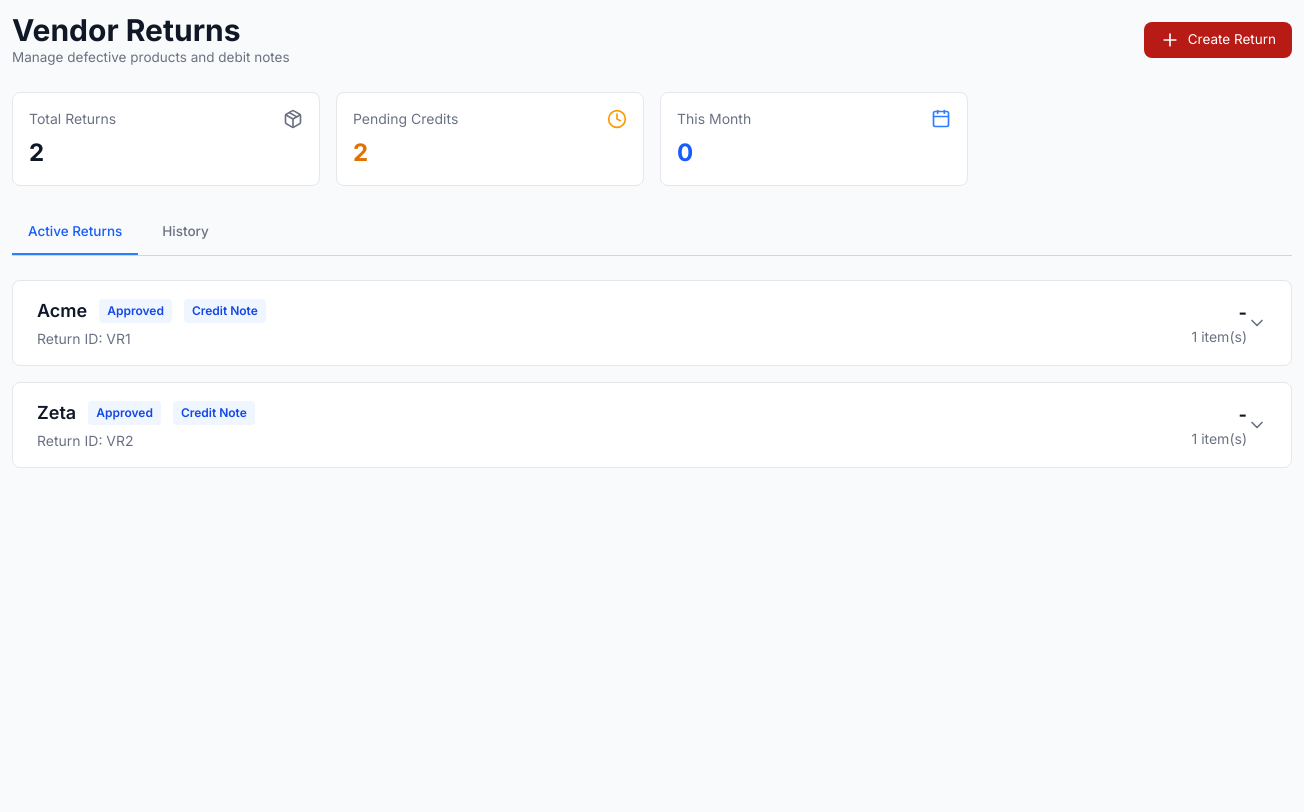
the GST debit note on Vendor Returns › gives STORE_MANAGER no button to issue one
The width and height of the screenshot is (1304, 812).
Click the heading "Zeta".
click(57, 413)  # box [37,399,76,427]
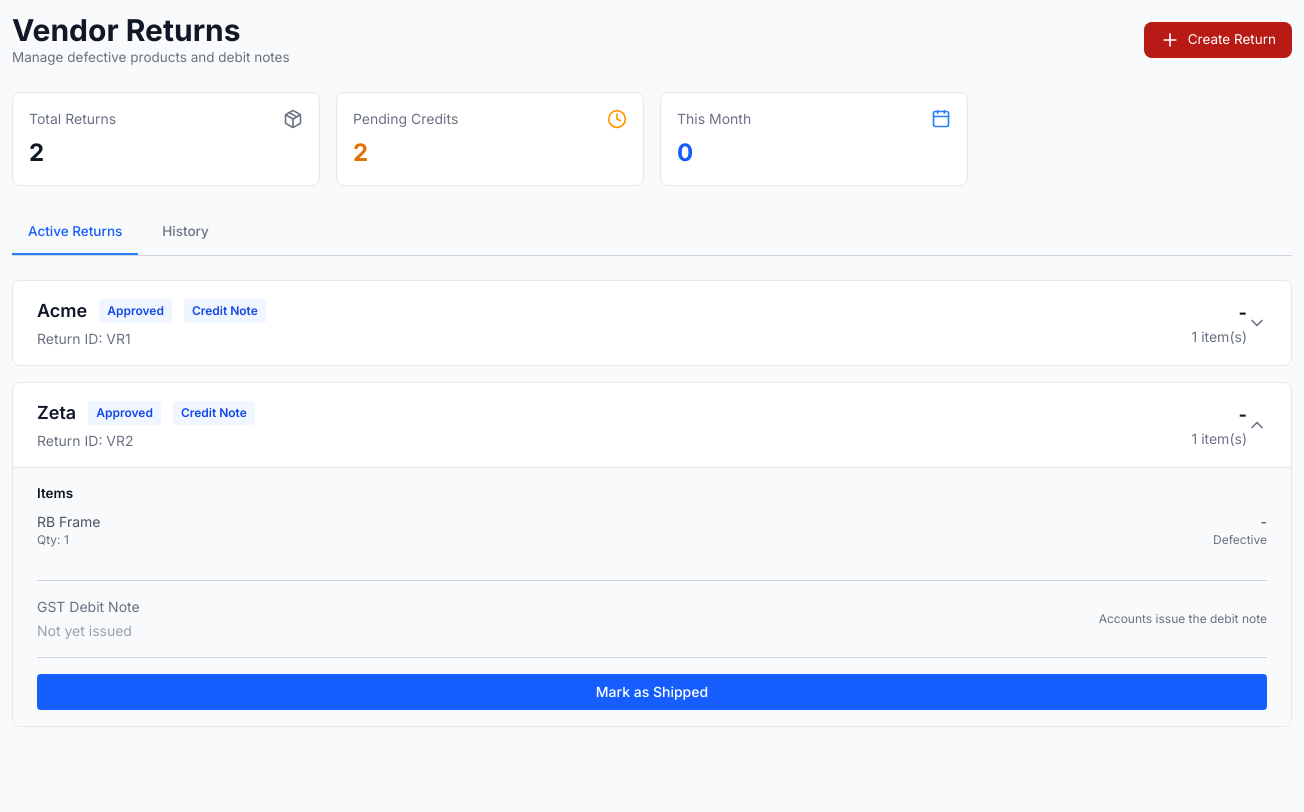
Check: the text "Not yet issued" is shown, box [37,621,140,641]
